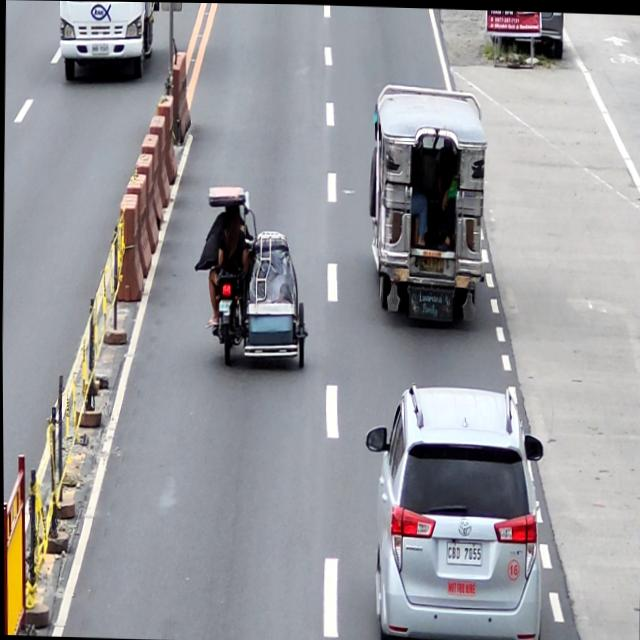Car: (360, 380, 546, 640)
Jeep: (364, 79, 488, 324)
License-Plate: (445, 539, 482, 563), (417, 252, 444, 272), (217, 299, 231, 313)
Tricycle: (203, 183, 310, 370)
